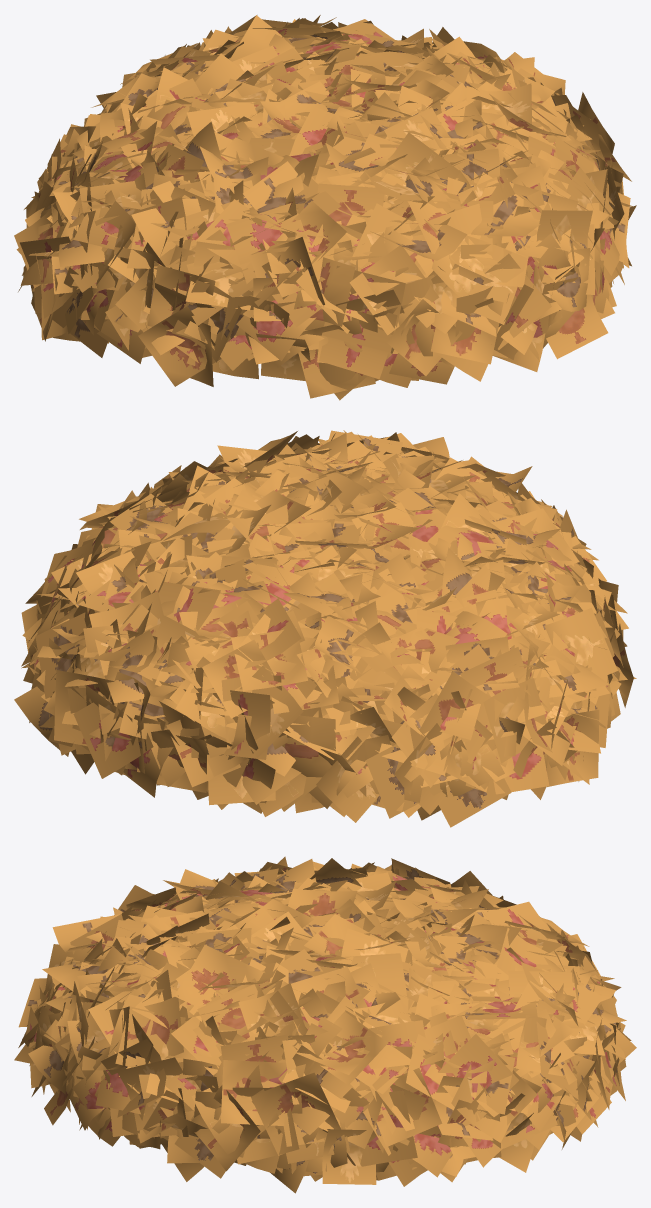
The model's file is SM_FallLeafPile_01.obj.
The picture shows the model from 3 angles, top to bottom: view 1: azimuth 30°, elevation 25°; view 2: azimuth 150°, elevation 25°; view 3: azimuth 270°, elevation 25°; orthographic projection. The views are drawn at different scales.
Visible parts, largest first — view 1: SM_FallLeafPile_01_m_FallLeaves; view 2: SM_FallLeafPile_01_m_FallLeaves; view 3: SM_FallLeafPile_01_m_FallLeaves.
Boxes of the visible parts, x1=… form: SM_FallLeafPile_01_m_FallLeaves: x1=14, y1=15, x2=636, y2=400; SM_FallLeafPile_01_m_FallLeaves: x1=14, y1=430, x2=636, y2=827; SM_FallLeafPile_01_m_FallLeaves: x1=14, y1=856, x2=636, y2=1193.
Size of the model in its own units: 2.35 by 0.8716 by 2.48.
Materials: 1 (1 with a texture image).
